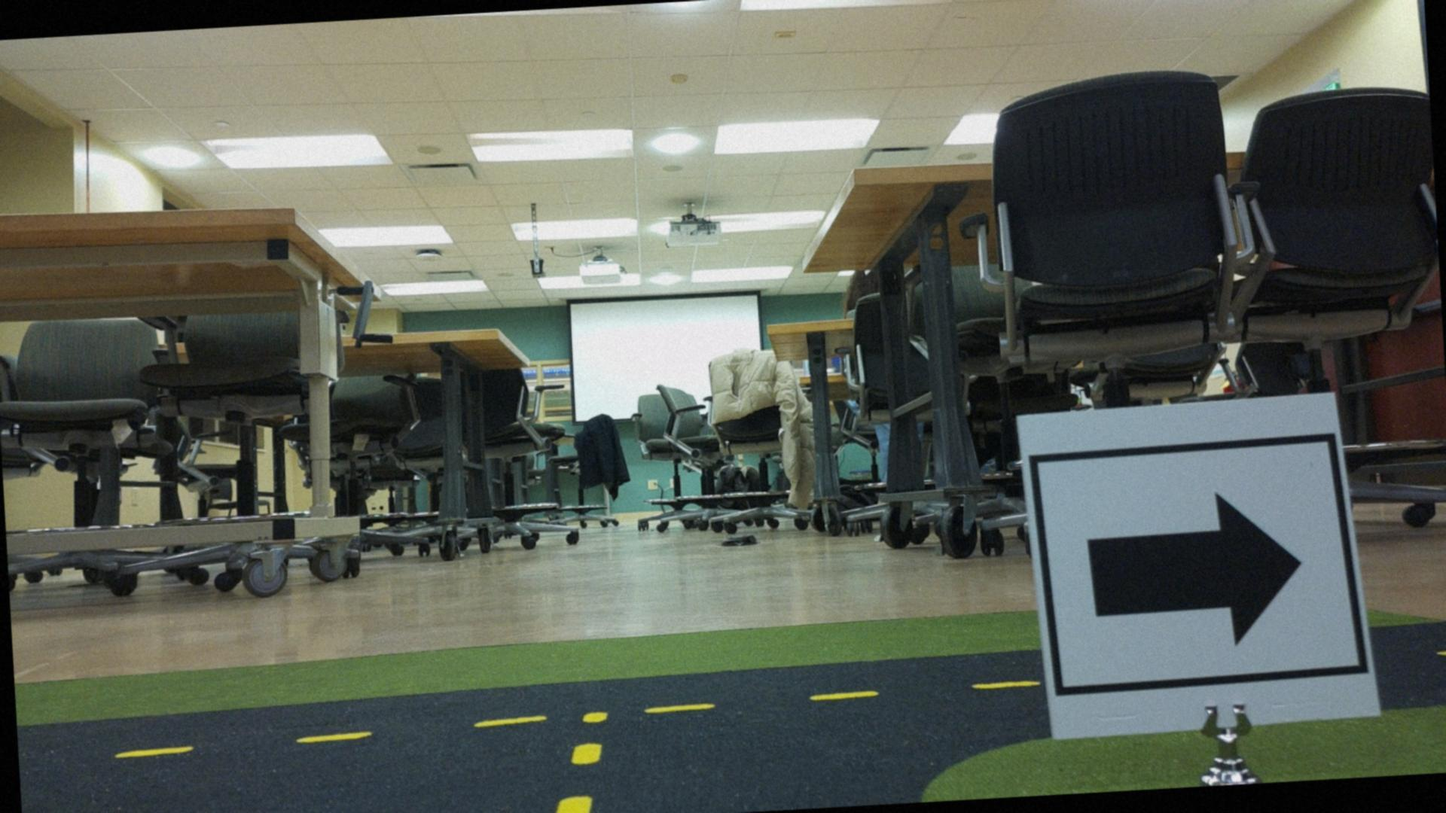turnleft: (1023, 397, 1358, 734)
yellowline: (113, 677, 1028, 757), (545, 740, 608, 812)
